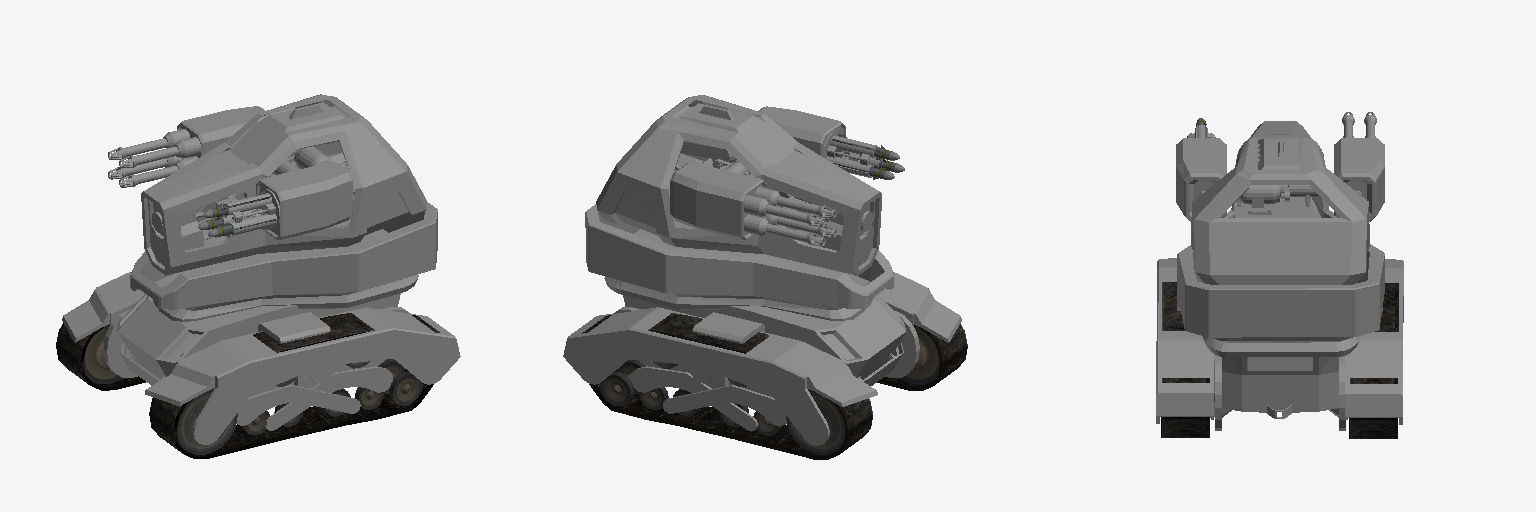
The picture shows the model from 3 angles: view 1: azimuth 30°, elevation 25°; view 2: azimuth 150°, elevation 25°; view 3: azimuth 270°, elevation 25°; orthographic projection.
Parts seen in each view (by area): view 1: Mesh_0973, Mesh_0946, Mesh_0947, Mesh_0945, Mesh_0974, Mesh_0948, Mesh_0957, Mesh_0965, Mesh_0964, Mesh_0944; view 2: Mesh_0973, Mesh_0946, Mesh_0947, Mesh_0945, Mesh_0974, Mesh_0948, Mesh_0965, Mesh_0972, Mesh_0957; view 3: Mesh_0973, Mesh_0946, Mesh_0945, Mesh_0947, Mesh_0974, Mesh_0944.
Part boxes in pixels (bbox=[...]): Mesh_0973: bbox=[62, 102, 460, 444]; Mesh_0946: bbox=[141, 94, 426, 275]; Mesh_0947: bbox=[108, 106, 352, 239]; Mesh_0945: bbox=[103, 293, 410, 396]; Mesh_0974: bbox=[56, 313, 439, 458]; Mesh_0948: bbox=[221, 189, 279, 235]; Mesh_0957: bbox=[177, 388, 237, 454]; Mesh_0965: bbox=[83, 325, 122, 383]; Mesh_0964: bbox=[378, 359, 422, 405]; Mesh_0944: bbox=[294, 146, 331, 168]; Mesh_0973: bbox=[563, 103, 961, 445]; Mesh_0946: bbox=[596, 95, 881, 275]; Mesh_0947: bbox=[670, 106, 845, 245]; Mesh_0945: bbox=[613, 294, 919, 396]; Mesh_0974: bbox=[582, 313, 967, 459]; Mesh_0948: bbox=[823, 131, 882, 177]; Mesh_0965: bbox=[786, 388, 844, 454]; Mesh_0972: bbox=[601, 359, 644, 405]; Mesh_0957: bbox=[900, 325, 939, 384]; Mesh_0973: bbox=[1156, 135, 1403, 424]; Mesh_0946: bbox=[1191, 121, 1369, 284]; Mesh_0945: bbox=[1214, 354, 1345, 430]; Mesh_0947: bbox=[1176, 112, 1384, 221]; Mesh_0974: bbox=[1161, 282, 1398, 438]; Mesh_0944: bbox=[1240, 185, 1279, 203].
Bounding box in the file's own units: 3470 × 3084 × 2547.
4 materials, 3 textured.